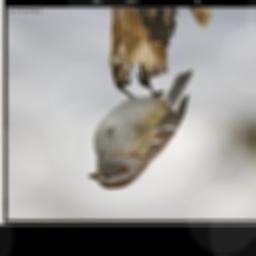Sparrow: (88, 63, 194, 190)
